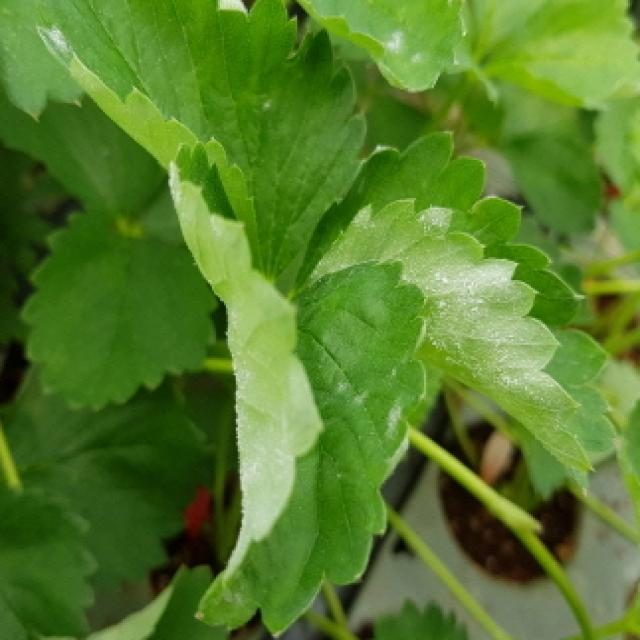Powdery Mildew Leaf: (168, 136, 429, 640), (295, 126, 620, 500), (32, 0, 371, 285), (296, 0, 468, 96)
